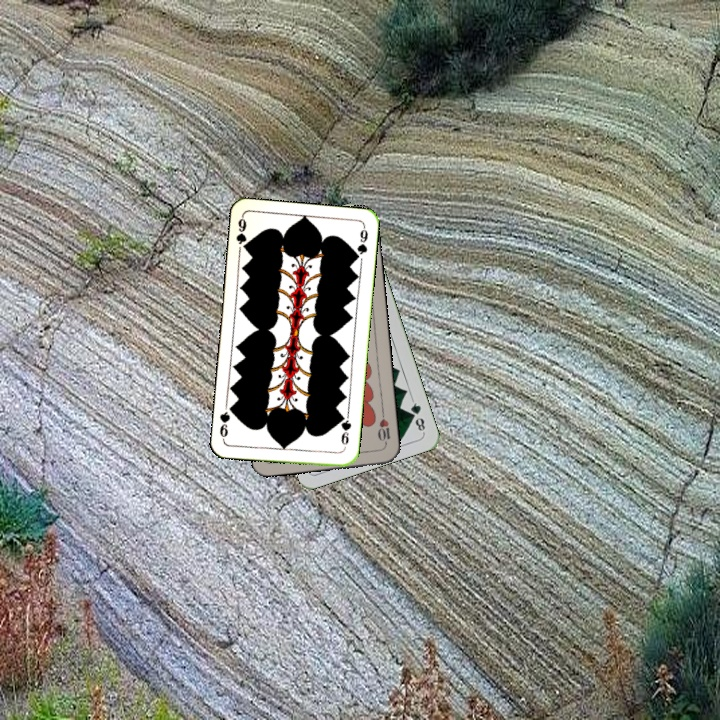G8: (407, 396, 428, 435)
G9: (232, 213, 251, 254), (337, 411, 354, 452)
H10: (374, 408, 393, 448)
